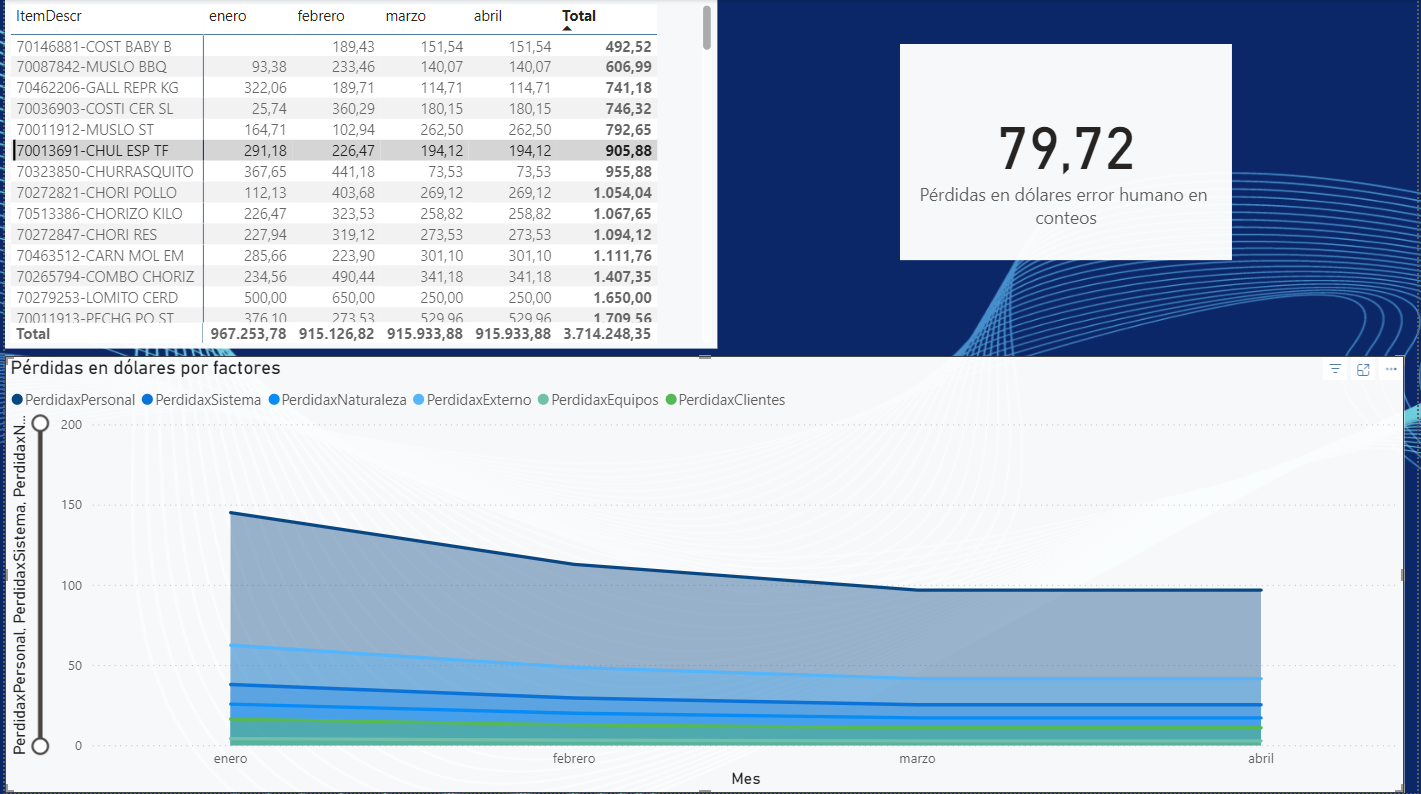

The page's visual inventory and layout, read from the dashboard file:
{"tool":"powerbi","page":{"name":"Página 4","canvas":[1280,720],"ordinal":3},"visuals":[{"type":"areaChart","title":"Pérdidas en dólares por factores","fields":{"Category":["Perdidas.Mes.Variación.Jerarquía de fechas.Mes"],"Y":["Perdidas.PerdidaxPersonal","Perdidas.PerdidaxSistema","Perdidas.PerdidaxNaturaleza","Perdidas.PerdidaxExterno","Perdidas.PerdidaxEquipos","Perdidas.PerdidaxClientes"]},"box":[0,323.7,1268.6,396.3],"z":0},{"type":"pivotTable","fields":{"Rows":["Coneccin.ItemDescr"],"Columns":["Perdidas.Mes.Variación.Jerarquía de fechas.Mes"],"Values":["Sum(Perdidas.Perdida)"]},"box":[0,0,646.3,317.3],"z":1000},{"type":"card","fields":{"Values":["Perdidas.PerdidaxErrorHumano"]},"box":[811.6,40.5,301,195.8],"z":2000}]}

Visuals, with their boxes in screenshot pixels (x1, y1, x2, y2), scaled from the page's 1280x720 canvas onto the 1421x794 screenshot:
"Pérdidas en dólares por factores" areaChart: bbox(0, 357, 1408, 793)
pivotTable - Coneccin.ItemDescr x Perdidas.Mes.Variación.Jerarquía de fechas.Mes: bbox(0, 0, 717, 350)
card - Perdidas.PerdidaxErrorHumano: bbox(901, 45, 1235, 261)
